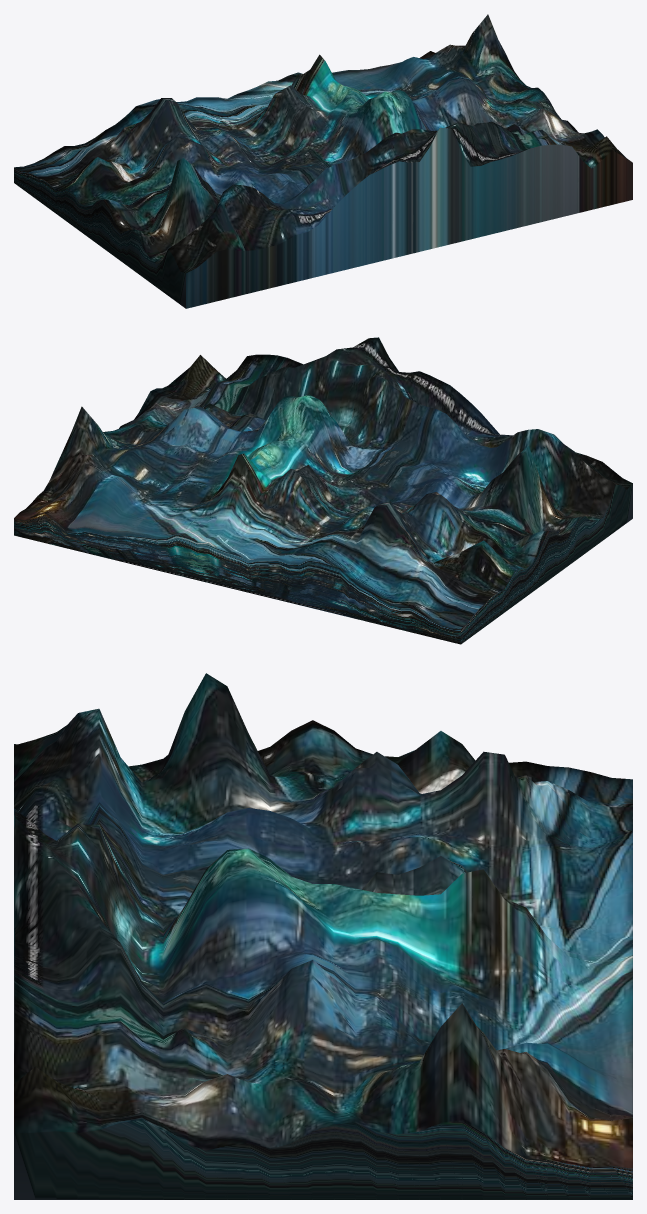
File: SECT_INT_12_Dragon_Sect.glb
3 views of the same model, one above another, from view 1: azimuth 30°, elevation 25°; view 2: azimuth 150°, elevation 25°; view 3: azimuth 270°, elevation 25° (orthographic). The views are drawn at different scales.
Parts seen in each view (by area): view 1: SECT_INT_12_Dragon_Sect; view 2: SECT_INT_12_Dragon_Sect; view 3: SECT_INT_12_Dragon_Sect.
Boxes of the visible parts, x1,y1,x2,y2 form: SECT_INT_12_Dragon_Sect: (14,14,632,308); SECT_INT_12_Dragon_Sect: (14,337,632,644); SECT_INT_12_Dragon_Sect: (14,673,632,1199).
Bounding box in the file's own units: 2 × 0.51 × 1.33.
Materials: 1 (1 with a texture image).
